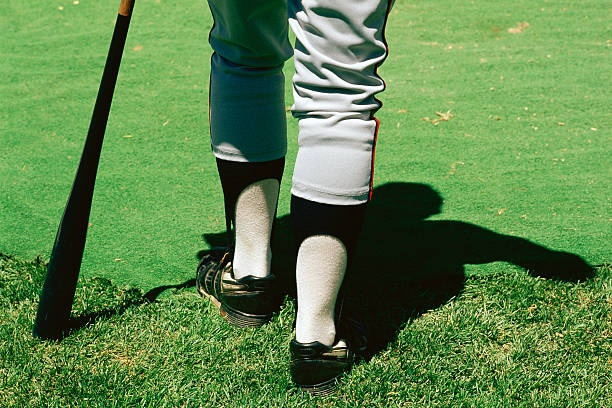bita: (33, 1, 130, 340)
